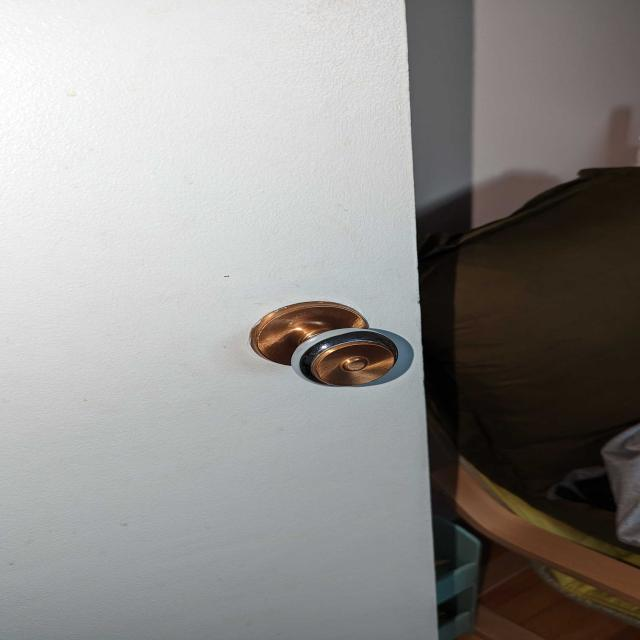door-knob: (251, 301, 398, 386)
